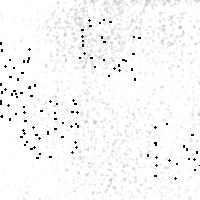pitted_surface: (1, 1, 200, 199), (79, 19, 138, 78), (20, 99, 77, 157), (147, 123, 200, 177), (0, 59, 34, 118), (0, 42, 28, 98)
